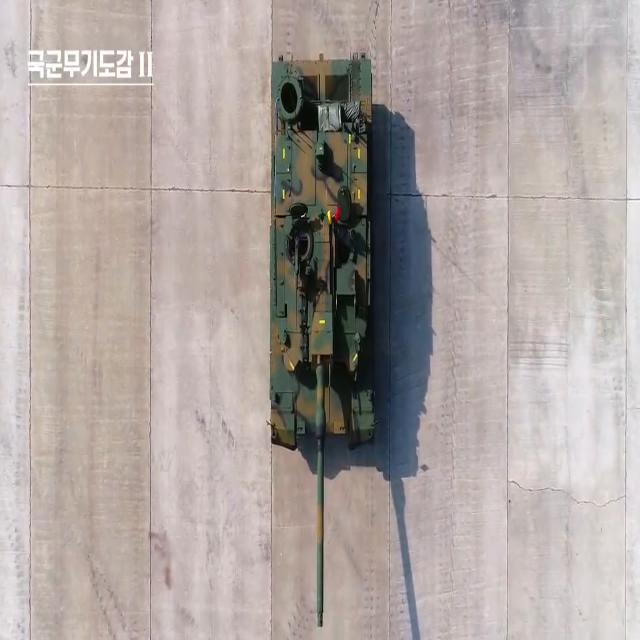korea tank: (262, 49, 380, 629)
